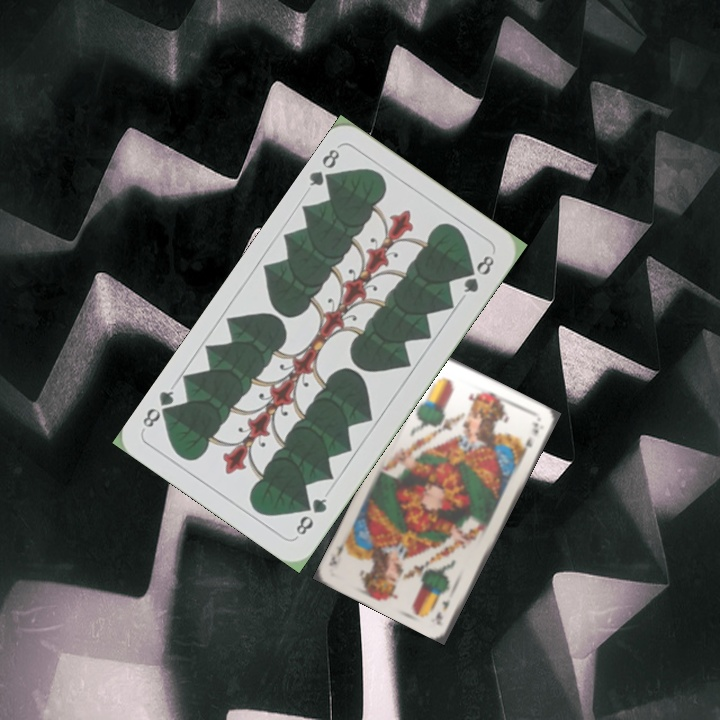EK: (431, 595, 452, 623)
G8: (305, 144, 343, 191), (291, 494, 330, 538)
